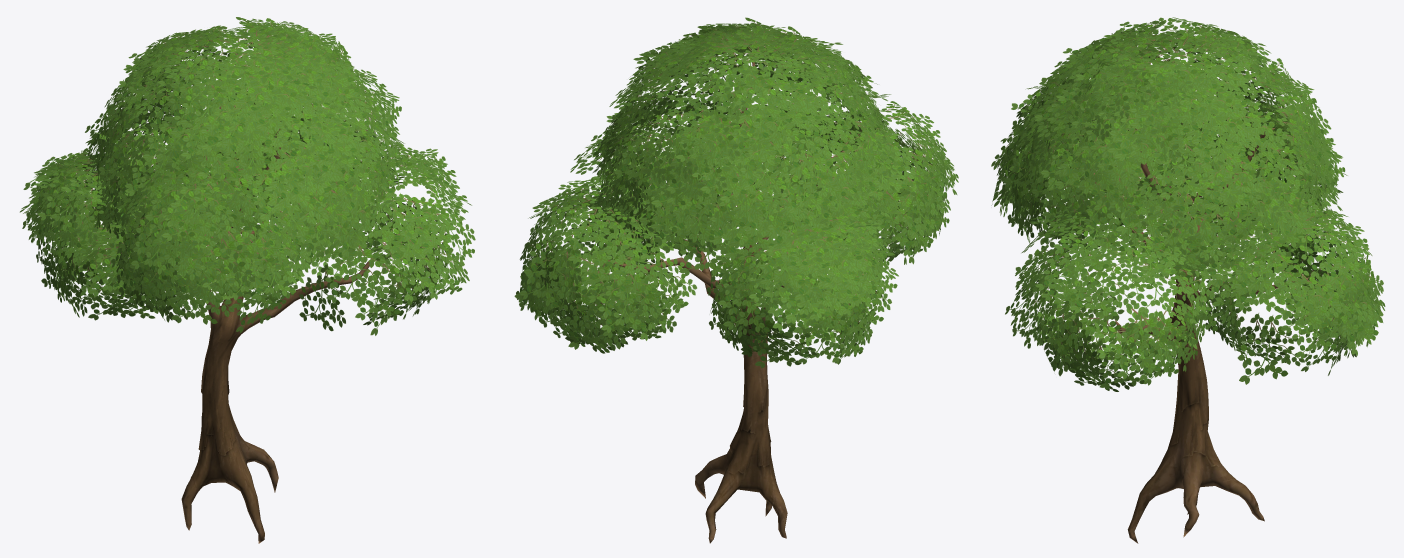
The model's file is tree-medium_tree_2.glb.
3 views of the same model, side by side, from view 1: azimuth 30°, elevation 25°; view 2: azimuth 150°, elevation 25°; view 3: azimuth 270°, elevation 25° (orthographic). The views are drawn at different scales.
Parts seen in each view (by area): view 1: Medium_Tree_2.dmx-static; view 2: Medium_Tree_2.dmx-static; view 3: Medium_Tree_2.dmx-static.
Boxes of the visible parts, box(x1,y1,x2,y2) form: Medium_Tree_2.dmx-static: box(19, 17, 475, 543); Medium_Tree_2.dmx-static: box(514, 17, 958, 543); Medium_Tree_2.dmx-static: box(991, 17, 1385, 543).
Size of the model in its own units: 11.53 by 14.68 by 10.63.
Materials: 2 (2 with a texture image).
